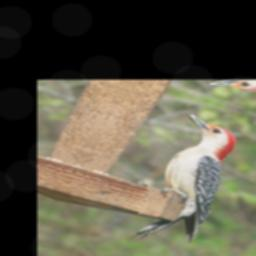Woodpecker: (111, 111, 256, 253)
